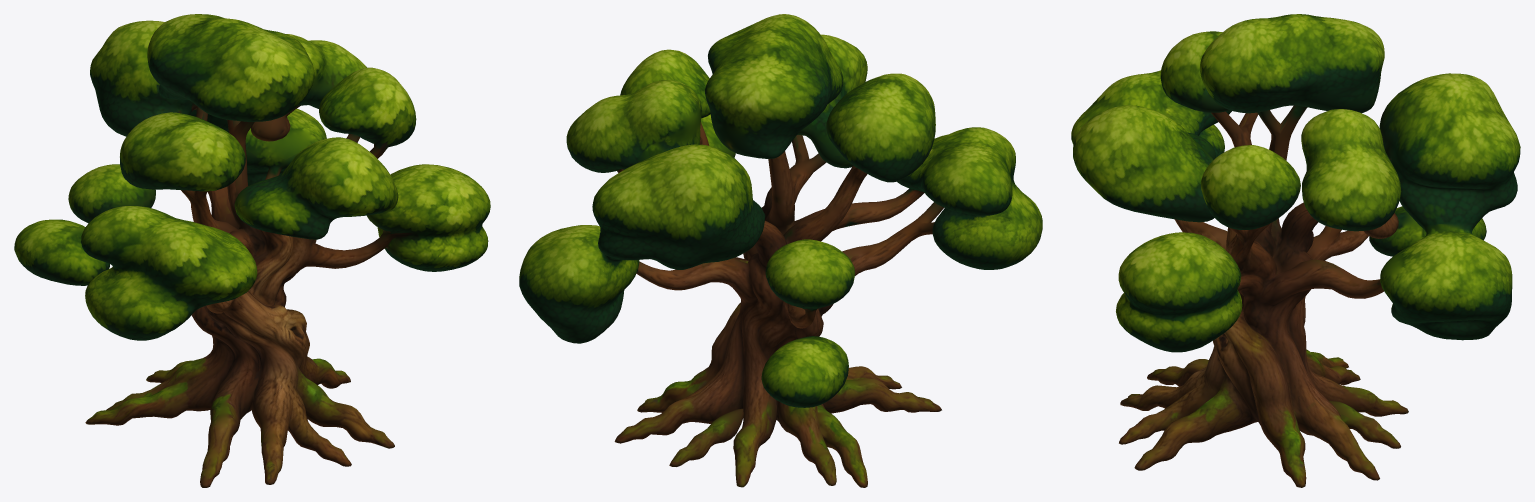
The model's file is tree_a.glb.
The picture shows the model from 3 angles, left to right: view 1: azimuth 30°, elevation 25°; view 2: azimuth 150°, elevation 25°; view 3: azimuth 270°, elevation 25°; orthographic projection. The views are drawn at different scales.
Visible parts, largest first — view 1: material; view 2: material; view 3: material.
Boxes of the visible parts, x1=… form: material: x1=14, y1=14, x2=490, y2=487; material: x1=519, y1=14, x2=1042, y2=487; material: x1=1071, y1=14, x2=1520, y2=487.
Size of the model in its own units: 1.9 by 1.83 by 1.84.
Materials: 1 (1 with a texture image).
